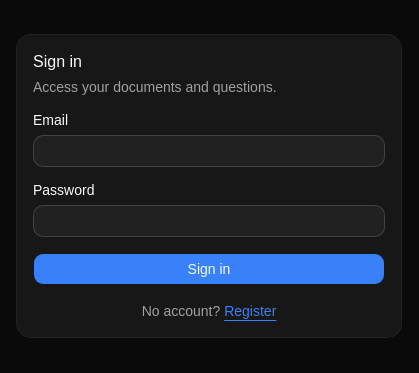
Test: LoginPage › shows a generic message when the server is unreachable
The width and height of the screenshot is (419, 373).
Type "a@example.com" into the field labelled "Email" at [209, 151], box [33,135,385,167]
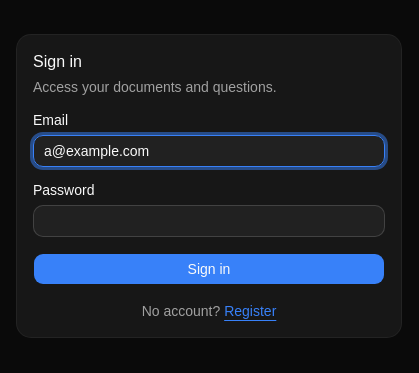
Type "password123" into the password field labelled "Password" at [209, 221], box [33,205,385,237]
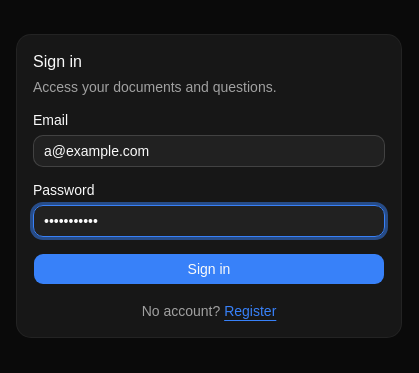
Click the button "Sign in" at [209, 269], box [33,253,385,285]
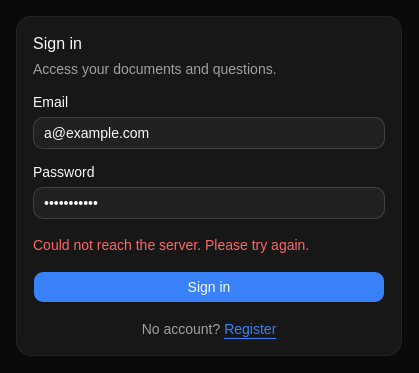
Expected: the message shows "Could not reach the server", [33,237,309,253]
